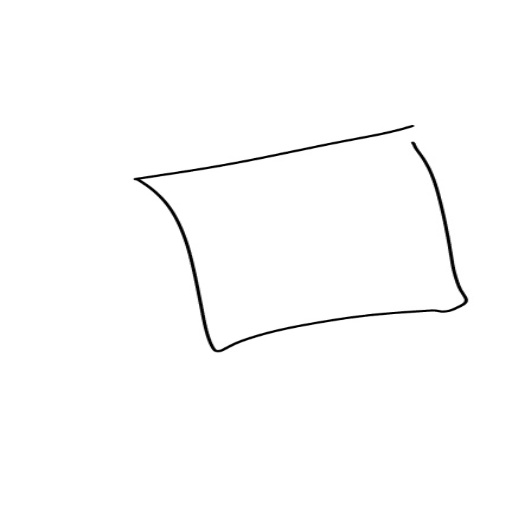square: (121, 122, 480, 362)
